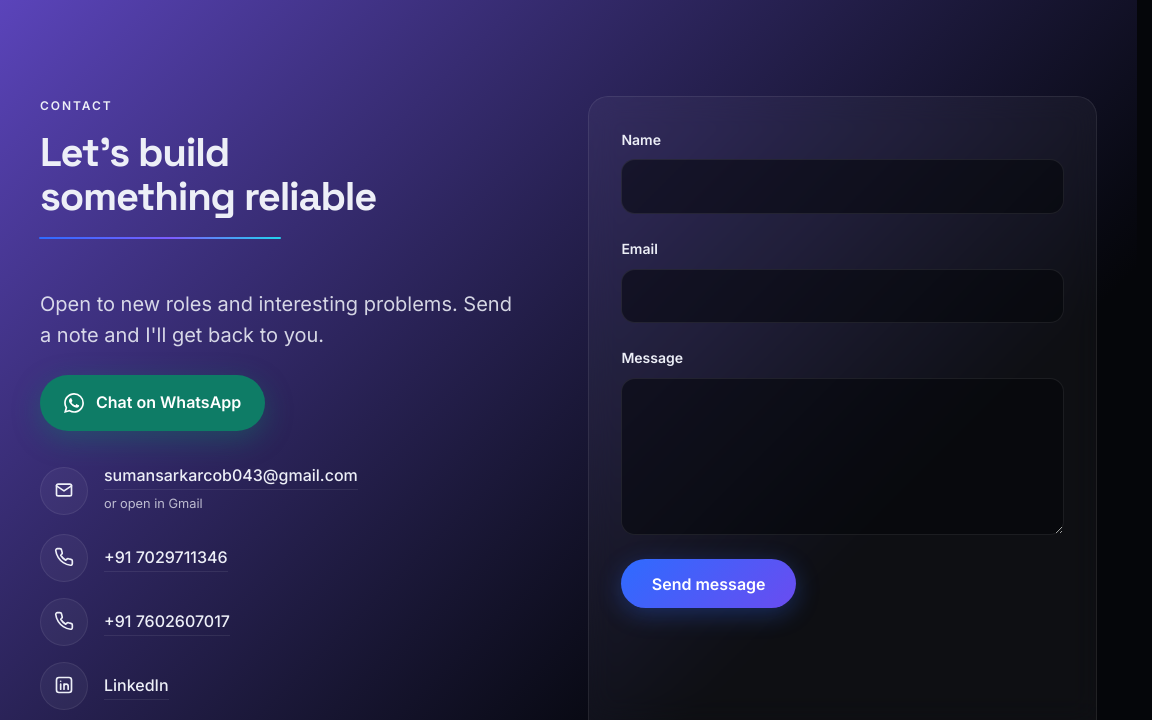
it: ContactComponent › shows a success notice and resets the form after sending
Type "Ada" into the field with id "c-name" at point(843, 187), box [621,159,1064,214]
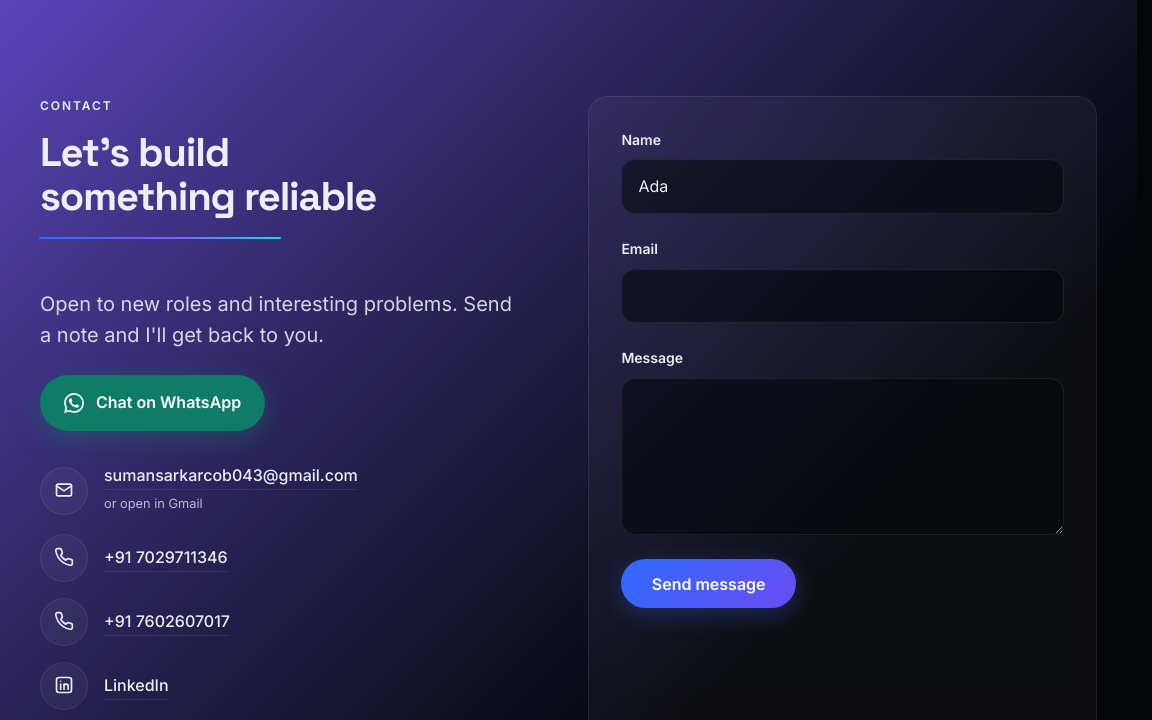
Type "ada@example.com" into the field labelled "Email" at point(843, 296), box [621,269,1064,323]
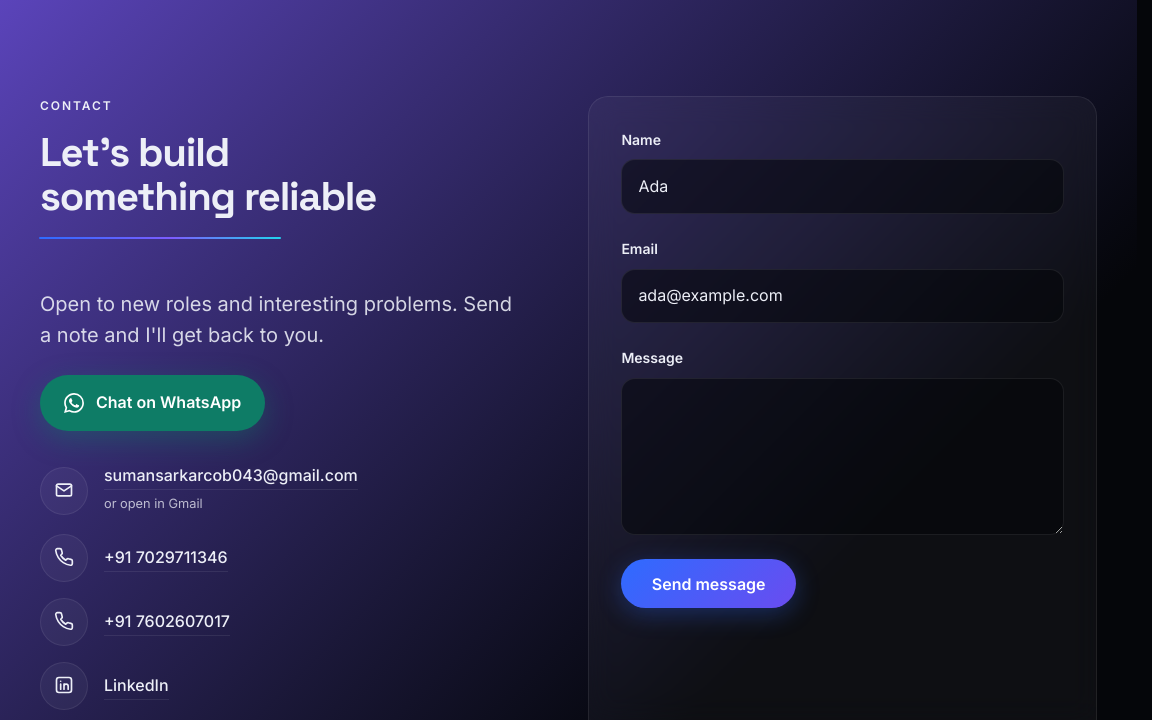
Type "A long enough message." into the text box labelled "Message" at point(843, 456), box [621,378,1064,535]
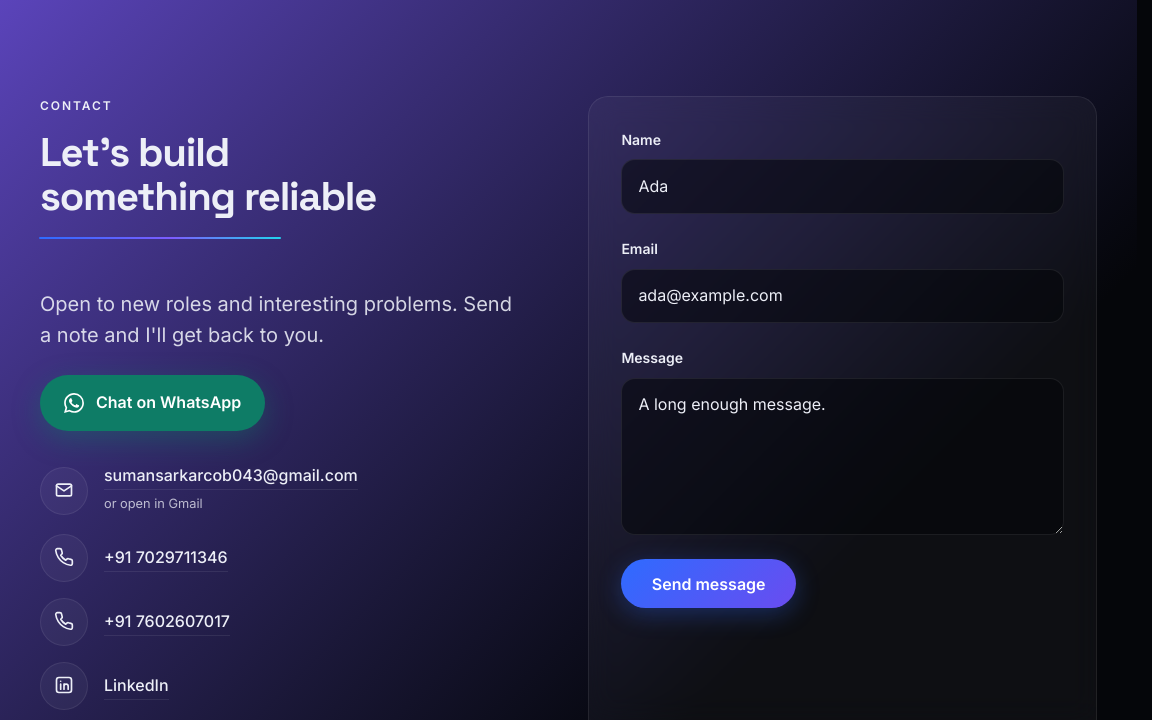
Submit the form, box [621,129,1064,632]
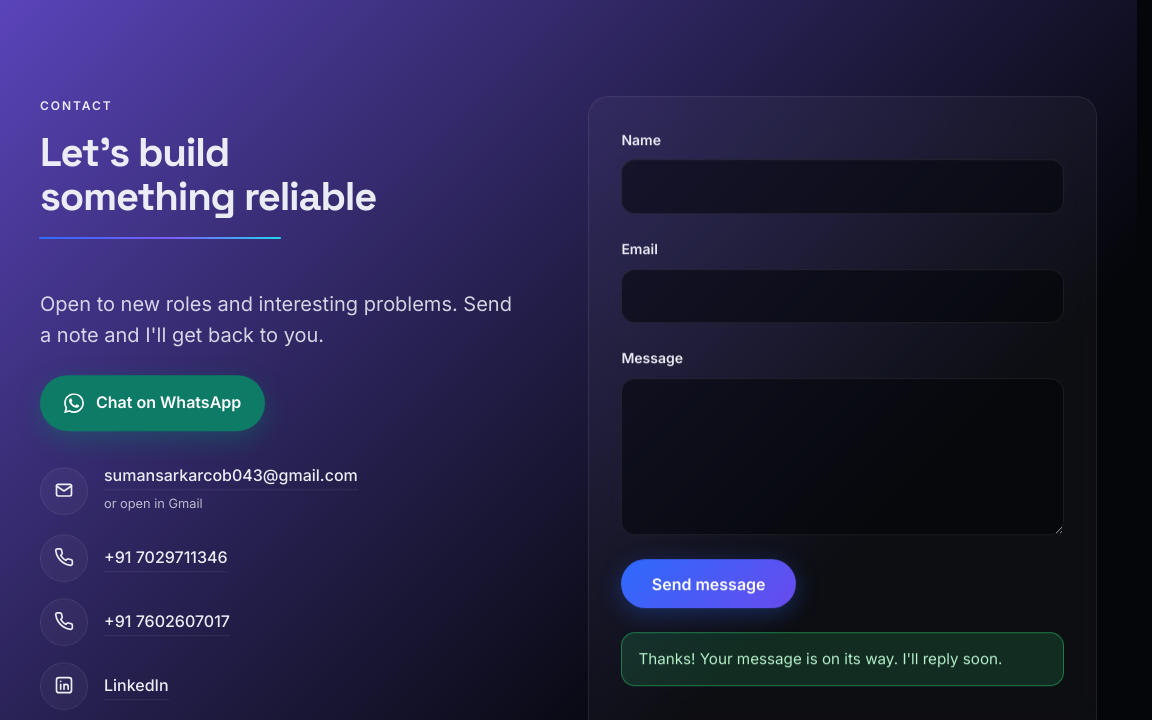
Check: the text "Thanks! Your message is on its way. I'll reply soon." is shown, box [621,633,1064,686]
